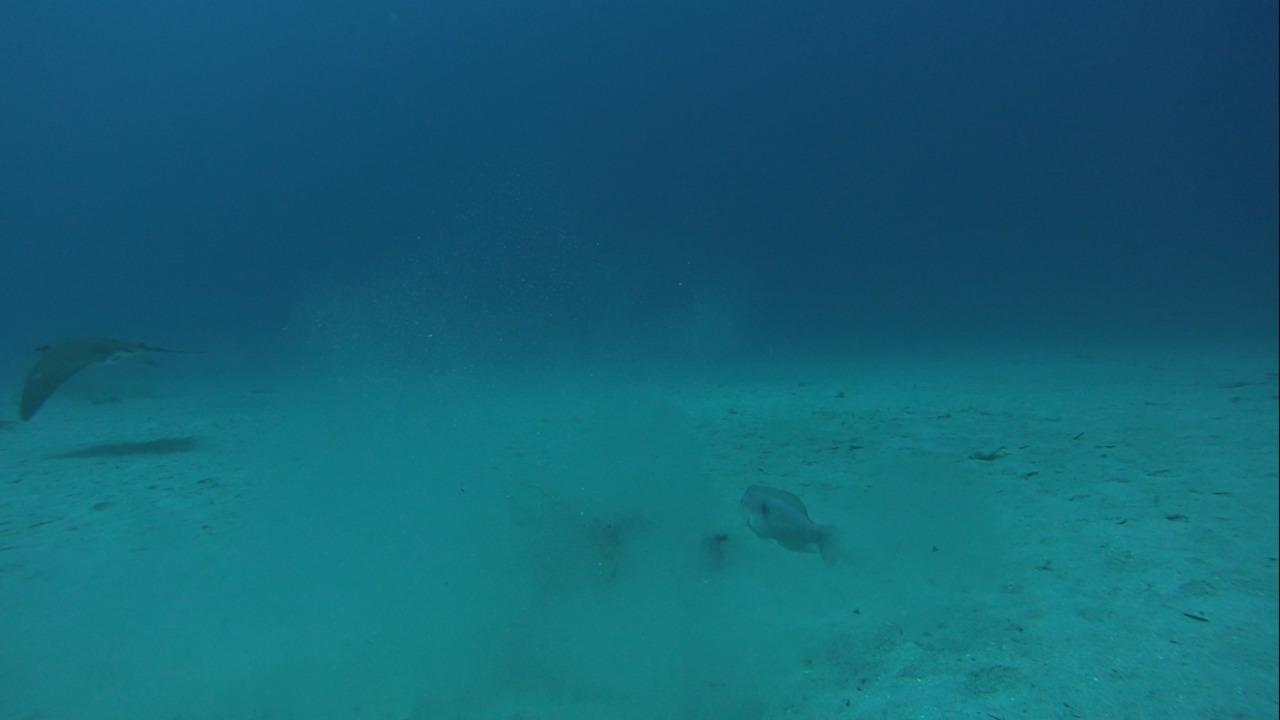myliobatis: (15, 329, 212, 430)
raor: (726, 475, 846, 572)
